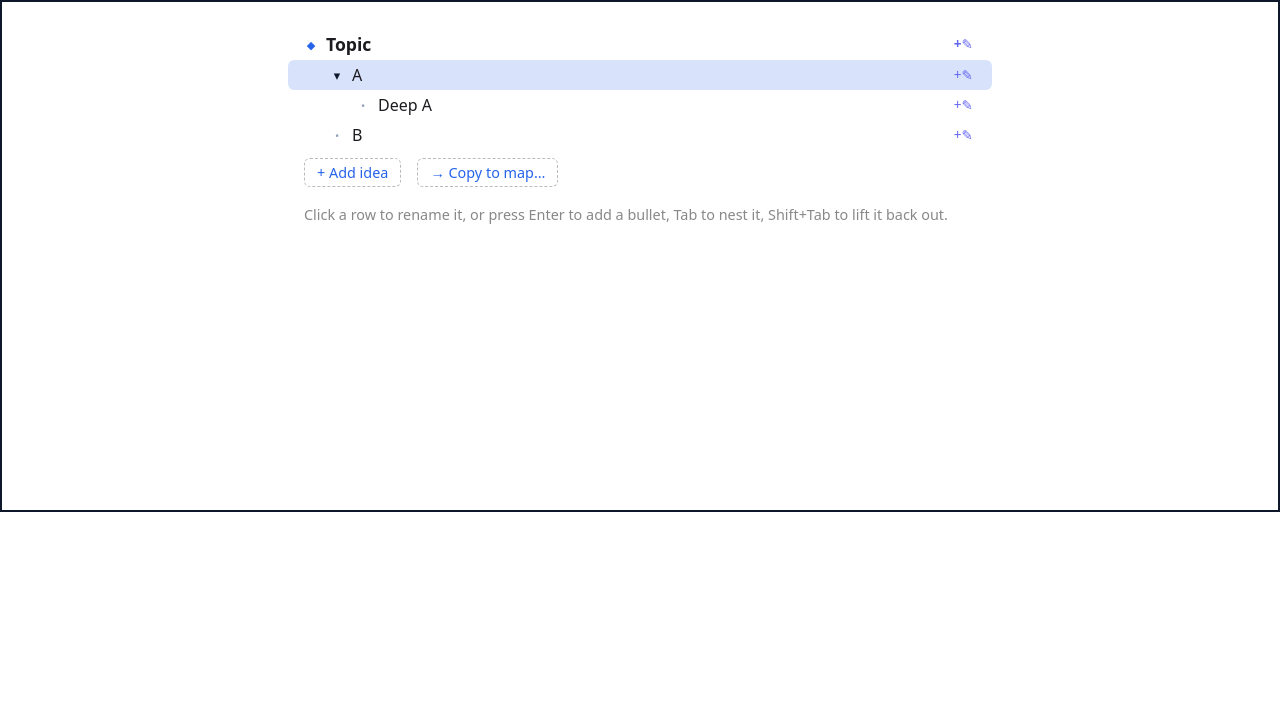
Test: BrainstormOutliner folding (#145) › Space folds the selected idea in the Brainstorm tree only, and the triangle unfolds it
This screenshot has width=1280, height=720.
Press Space
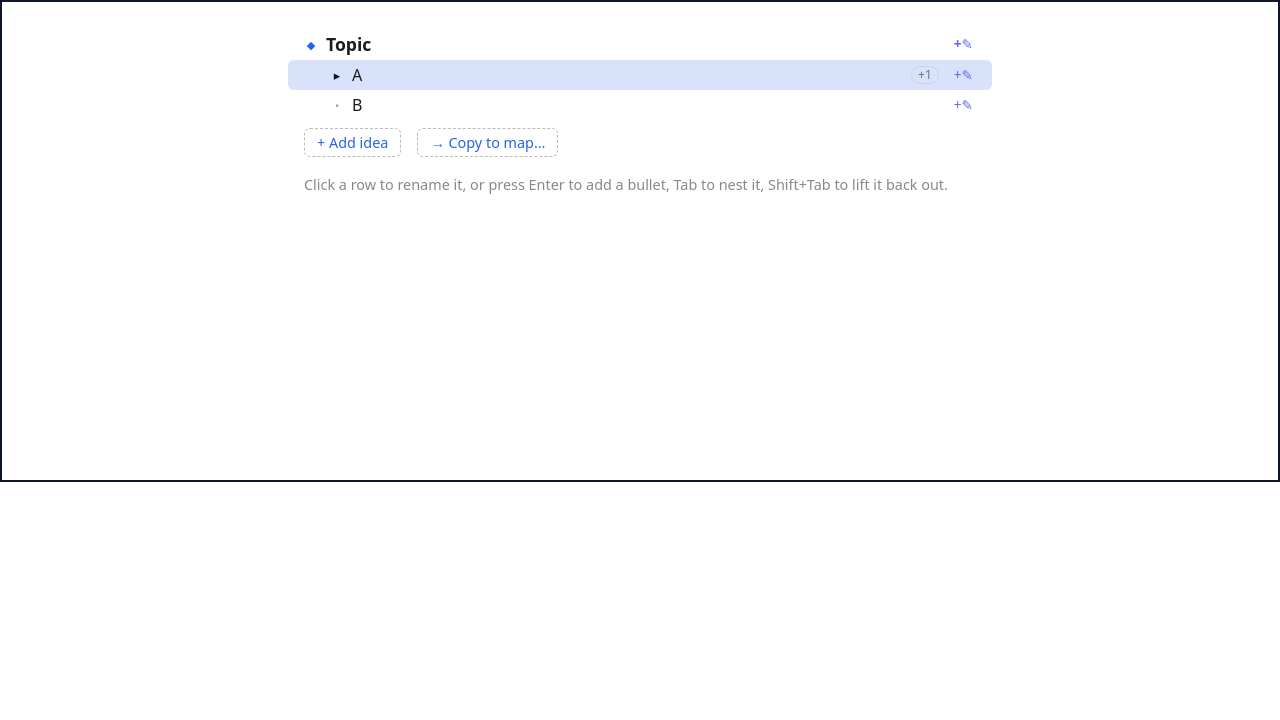
Now the list item with test id "outliner-row-a1" is gone
Now the list item with test id "outliner-row-a" is collapsed, box x1=288 y1=60 x2=992 y2=90
Now the text with test id "row-hidden-a" reads "+1", box x1=911 y1=66 x2=939 y2=84
Click the text with test id "row-fold-a". click: (337, 75)
box: x1=334 y1=66 x2=340 y2=84
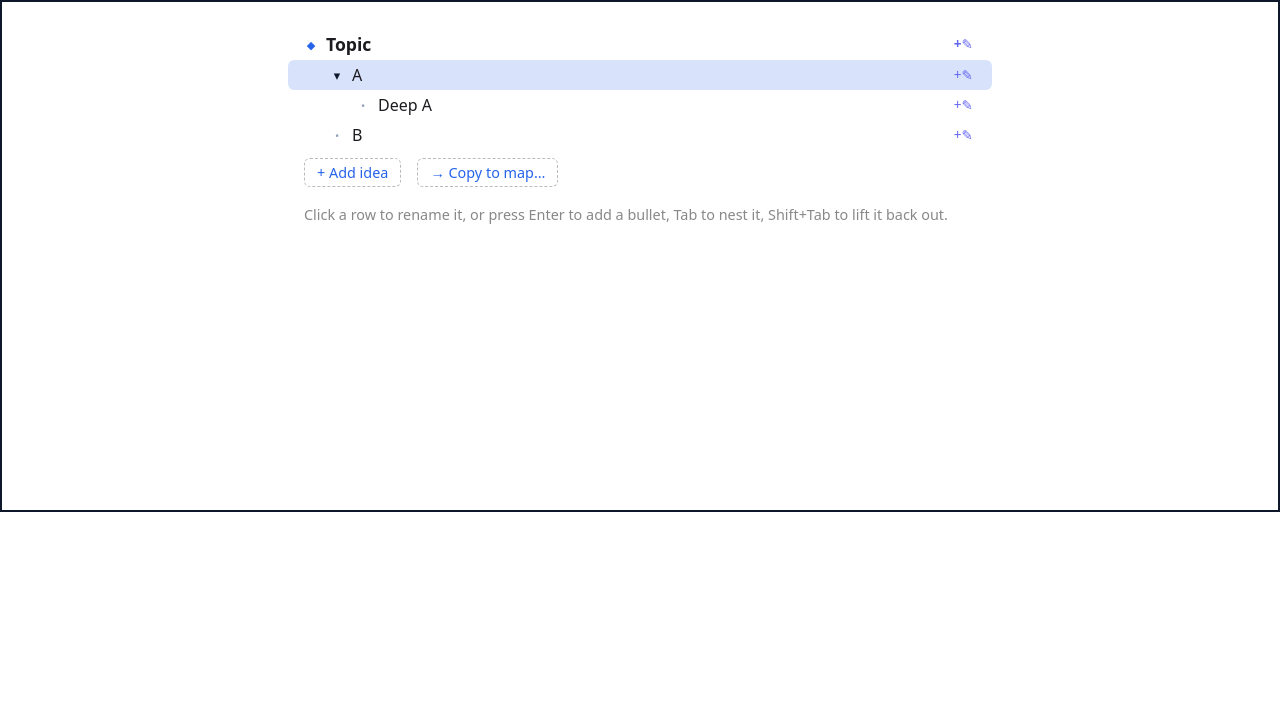
Now the list item with test id "outliner-row-a1" is shown, box x1=288 y1=90 x2=992 y2=120
